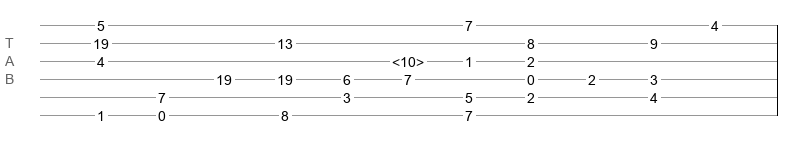0: (158, 108, 166, 118), (527, 72, 535, 82)
1: (97, 108, 105, 118), (465, 54, 473, 64)
13: (277, 36, 293, 46)
19: (93, 36, 109, 46), (216, 72, 232, 82), (277, 72, 293, 82)
2: (527, 54, 535, 64), (527, 90, 535, 100), (588, 72, 596, 82)
3: (343, 90, 351, 100), (650, 72, 658, 82)
4: (97, 54, 105, 64), (650, 90, 658, 100), (711, 18, 719, 28)
5: (97, 18, 105, 28), (465, 90, 473, 100)
6: (343, 72, 351, 82)
7: (158, 90, 166, 100), (404, 72, 412, 82), (465, 18, 473, 28), (465, 108, 473, 118)
8: (281, 108, 289, 118), (527, 36, 535, 46)
9: (650, 36, 658, 46)
harmonic: (392, 54, 424, 64)
